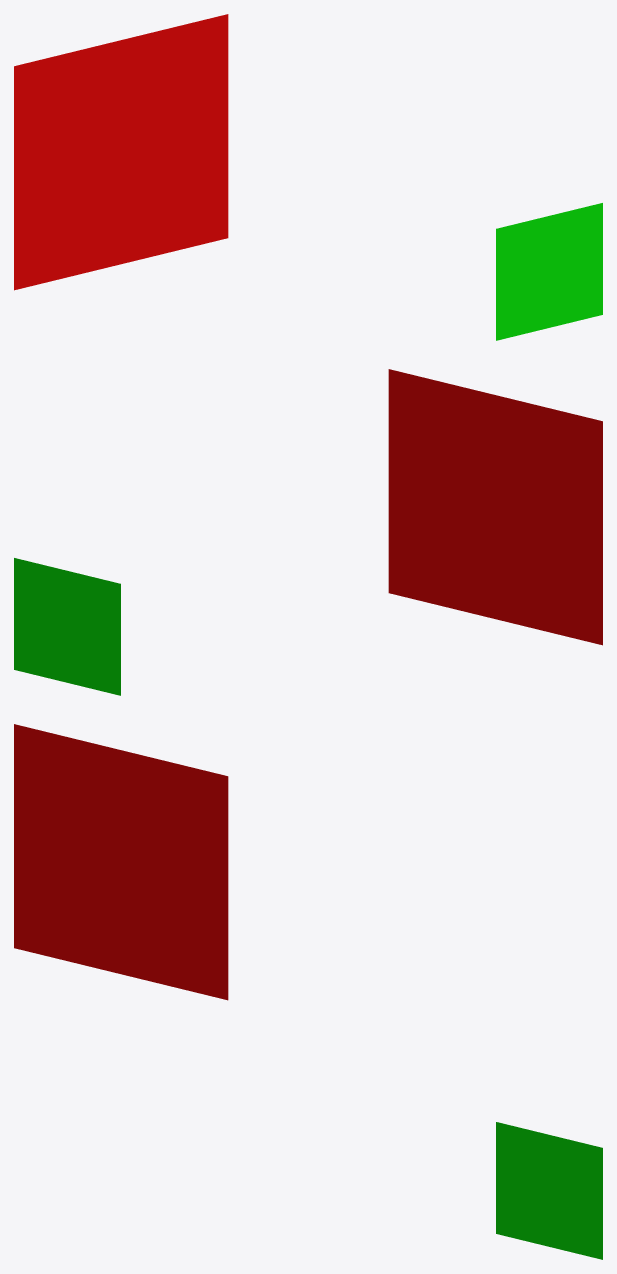
Rendered from node-tree.gltf.
The picture shows the model from 3 angles, top to bottom: view 1: azimuth 30°, elevation 25°; view 2: azimuth 150°, elevation 25°; view 3: azimuth 330°, elevation 25°; orthographic projection.
Visible parts, largest first — view 1: Left, Right; view 2: Left, Right; view 3: Left, Right.
Boxes of the visible parts, x1,y1,x2,y2 form: Left: (14,14,228,290); Right: (496,203,602,340); Left: (388,369,602,645); Right: (14,558,120,695); Left: (14,724,228,1000); Right: (496,1122,602,1259).
Size of the model in its own units: 330 by 210 by 0.
